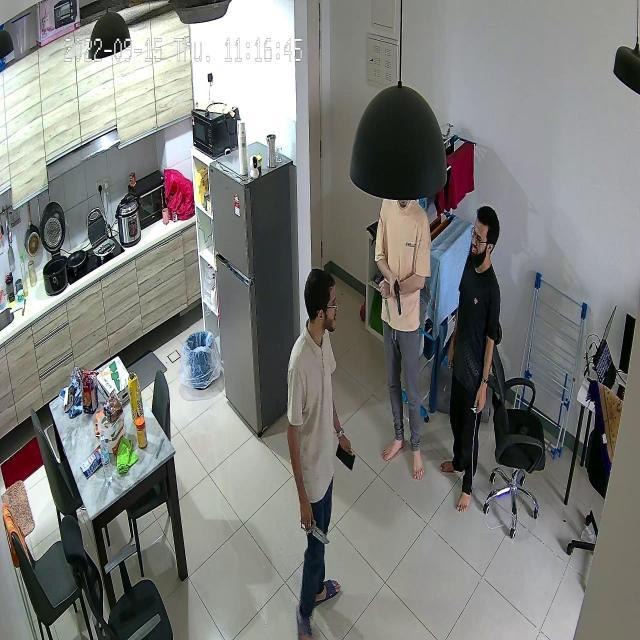Gun: (389, 276, 415, 321)
Knife: (295, 510, 337, 552)
